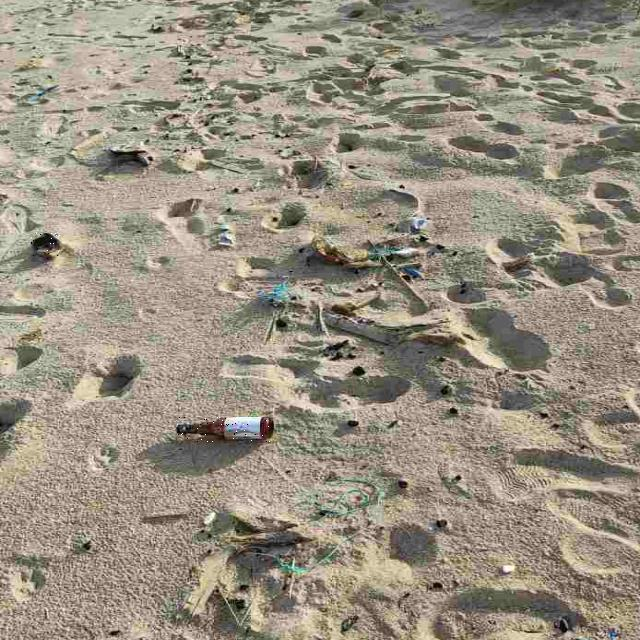biowaste: (31, 234, 60, 259)
glass: (176, 418, 274, 442)
